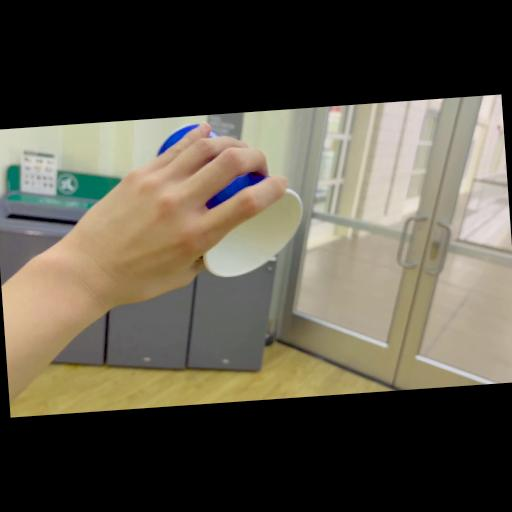lp_paper_cup: (148, 112, 310, 288)
